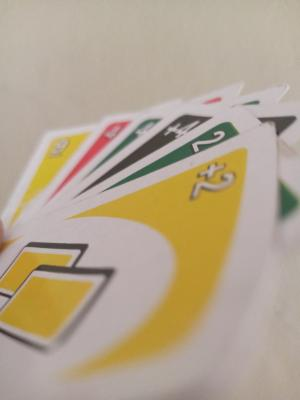-2: (186, 154, 241, 237)
wild-4: (162, 116, 203, 145)
yellow: (0, 232, 136, 362), (43, 140, 76, 163)
